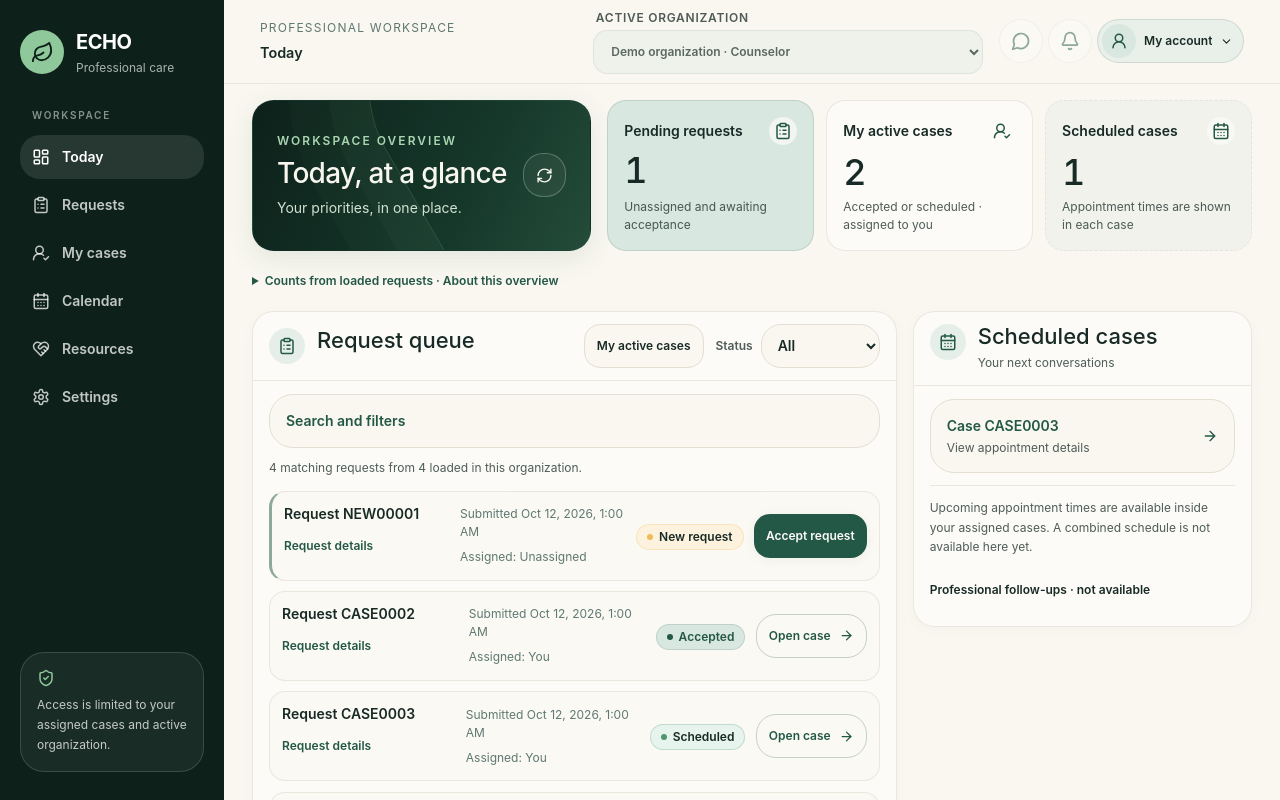
Test case: professional dashboard presentation › requires explicit confirmation and supports cancellation with focus restoration
Click the button "Accept request" at (810, 536), box [754, 514, 867, 558]
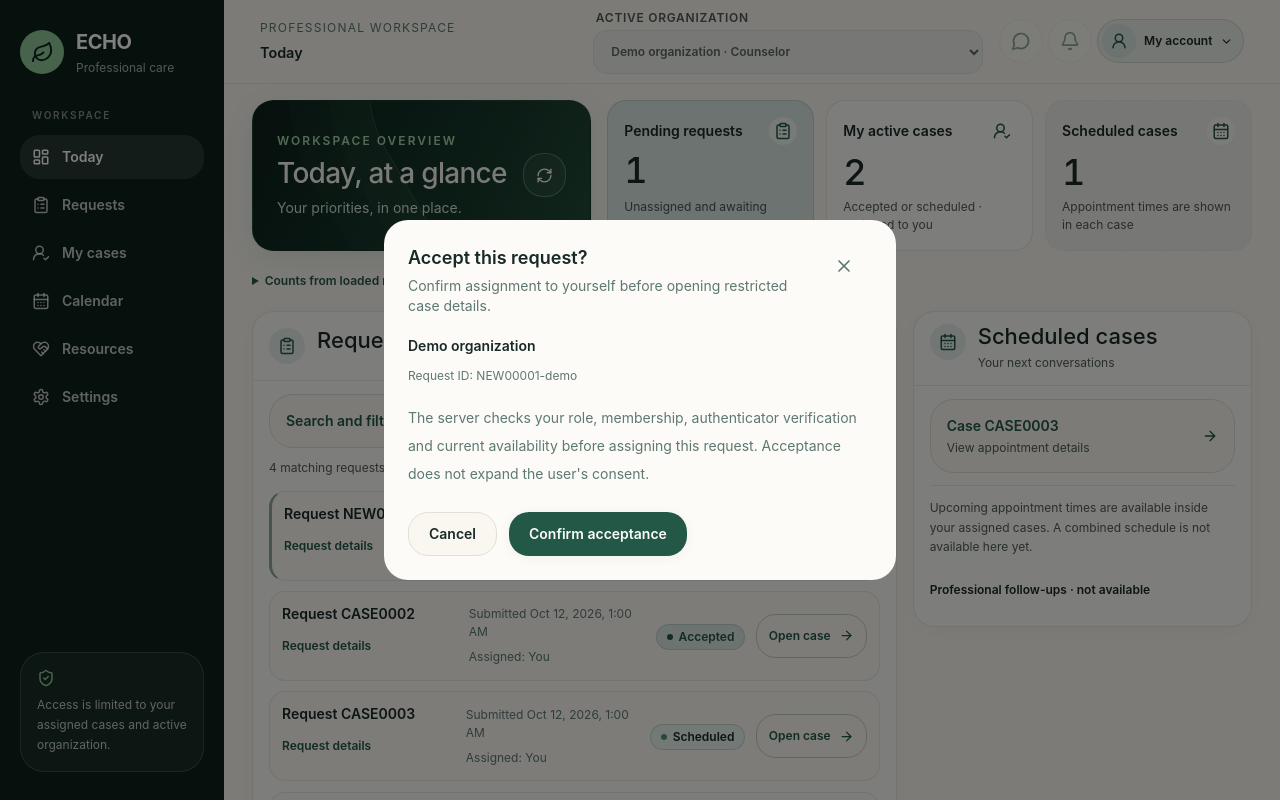
Expected: the dialog "Accept this request?" shows "NEW00001-demo", [476, 368, 577, 383]
Click the button "Cancel" at (452, 534), box [408, 512, 497, 556]
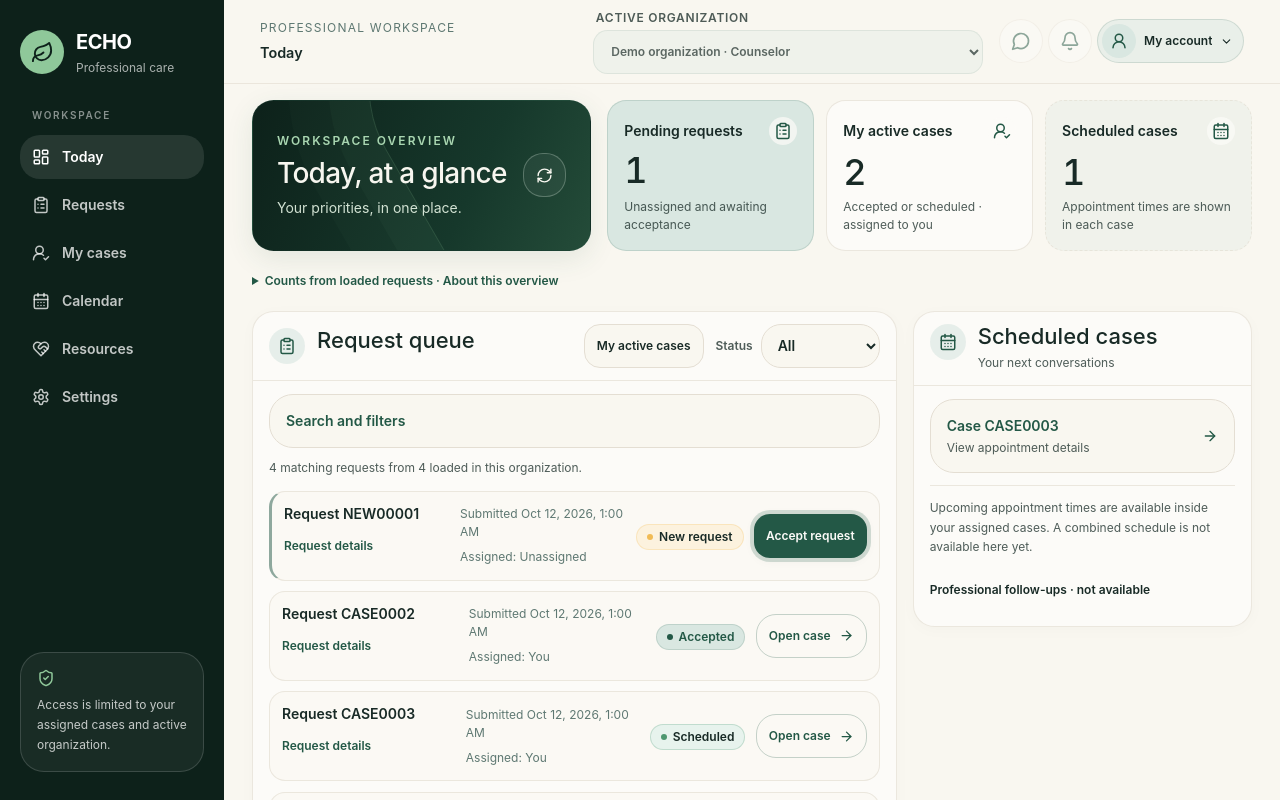
Expected: the dialog is gone
